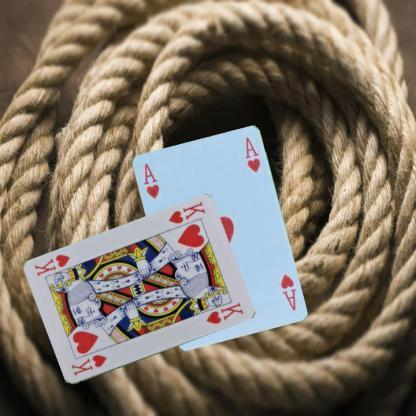Ah: (277, 272, 297, 312), (140, 161, 160, 200)
Kh: (68, 352, 108, 378), (166, 200, 206, 226)
